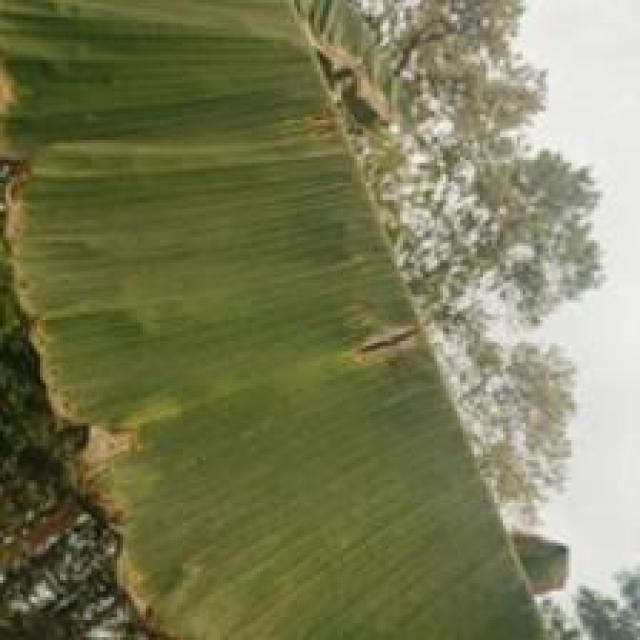Downey_mildrew: (0, 42, 234, 637), (287, 41, 438, 413)
